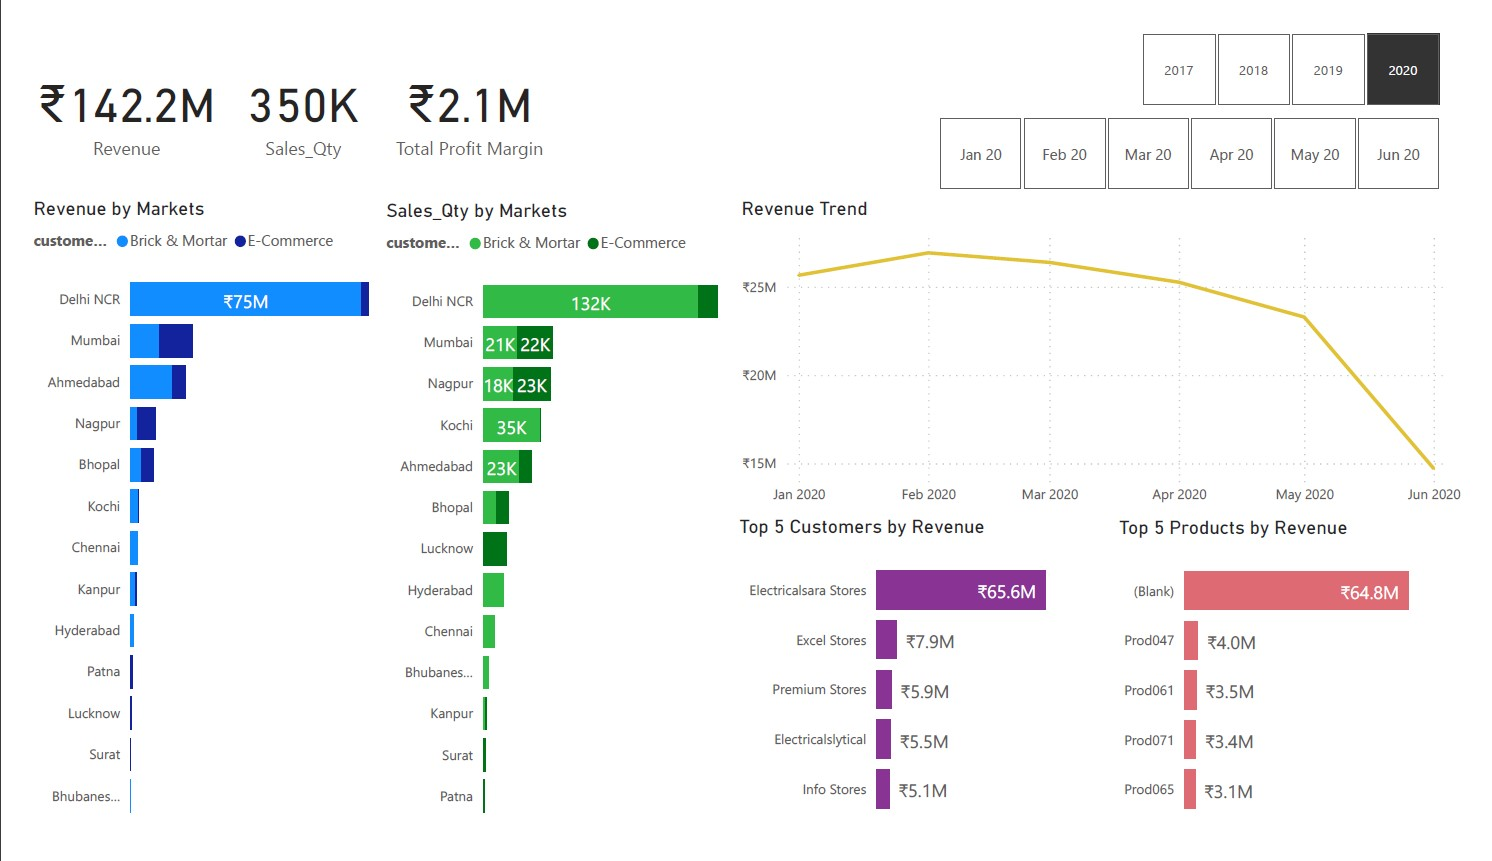

This screenshot's page, from the dashboard's own definition file:
{"tool":"powerbi","page":{"name":"Key Insights","canvas":[1280,720],"ordinal":0},"visuals":[{"type":"card","fields":{"Values":["BaseMeasures.Revenue"]},"box":[0,0,175.6,153.7],"z":2002},{"type":"card","fields":{"Values":["BaseMeasures.Sales Qty"]},"box":[175.6,0,138.6,153.7],"z":2003},{"type":"barChart","title":"Revenue by Markets","fields":{"Category":["sales markets.markets_name"],"Y":["BaseMeasures.Revenue"],"Series":["sales customers.customer_type"]},"box":[0,152.3,314.2,568.1],"z":2004},{"type":"barChart","title":"Sales_Qty by Markets","fields":{"Y":["BaseMeasures.Sales Qty"],"Category":["sales markets.markets_name"],"Series":["sales customers.customer_type"]},"box":[314.2,153.7,314.2,566.7],"z":2006},{"type":"slicer","fields":{"Values":["sales date.year"]},"box":[966,0,314.2,76.8],"z":2007},{"type":"slicer","fields":{"Values":["sales date.cy_date"]},"box":[786.3,75.5,494,76.8],"z":2008},{"type":"barChart","title":"Top 5 Customers by Revenue","fields":{"Y":["BaseMeasures.Revenue"],"Category":["sales customers.custmer_name"]},"box":[628.5,435,314.2,285.4],"z":2009},{"type":"barChart","title":"Top 5 Products by Revenue","fields":{"Y":["BaseMeasures.Revenue"],"Category":["sales products.product_code"]},"box":[966,436.4,314.2,284],"z":2011},{"type":"lineChart","title":"Revenue Trend","fields":{"Category":["sales date.cy_date"],"Y":["BaseMeasures.Revenue"]},"box":[629.8,152.3,650.4,282.7],"z":2012},{"type":"card","fields":{"Values":["BaseMeasures.Total_Profit_Margin"]},"box":[314.2,0,157.8,153.7],"z":2013}]}

Visuals, with their boxes in screenshot pixels (x1, y1, x2, y2), scaled from the page's 1280x720 canvas onto the 1492x861 screenshot:
card - BaseMeasures.Revenue: (0,0,205,184)
card - BaseMeasures.Sales Qty: (205,0,366,184)
"Revenue by Markets" barChart: (0,182,366,860)
"Sales_Qty by Markets" barChart: (366,184,732,860)
slicer - sales date.year: (1126,0,1491,92)
slicer - sales date.cy_date: (917,90,1491,182)
"Top 5 Customers by Revenue" barChart: (733,520,1099,860)
"Top 5 Products by Revenue" barChart: (1126,522,1491,860)
"Revenue Trend" lineChart: (734,182,1491,520)
card - BaseMeasures.Total_Profit_Margin: (366,0,550,184)
